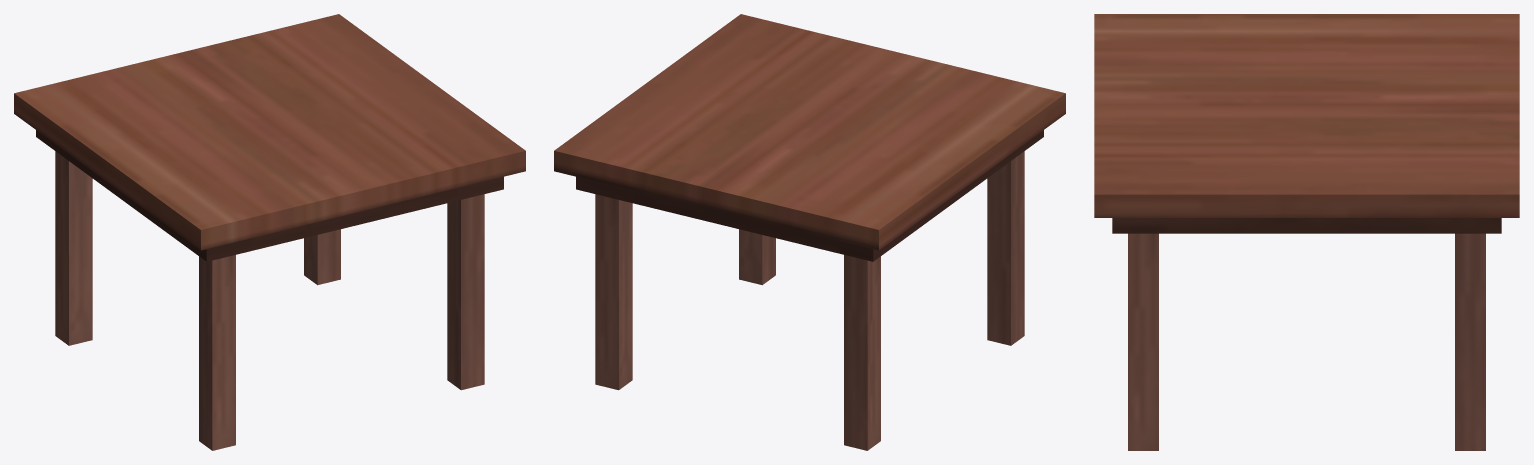
Rendered from TafelBijzet.fbx.
The picture shows the model from 3 angles, left to right: view 1: azimuth 30°, elevation 25°; view 2: azimuth 150°, elevation 25°; view 3: azimuth 270°, elevation 25°; orthographic projection. The views are drawn at different scales.
Parts seen in each view (by area): view 1: pCube106; view 2: pCube106; view 3: pCube106.
Boxes of the visible parts, x1,y1,x2,y2 form: pCube106: (14,14,525,450); pCube106: (554,14,1065,450); pCube106: (1094,14,1519,450).
Bounding box in the file's own units: 3.01 × 2.11 × 2.99.
